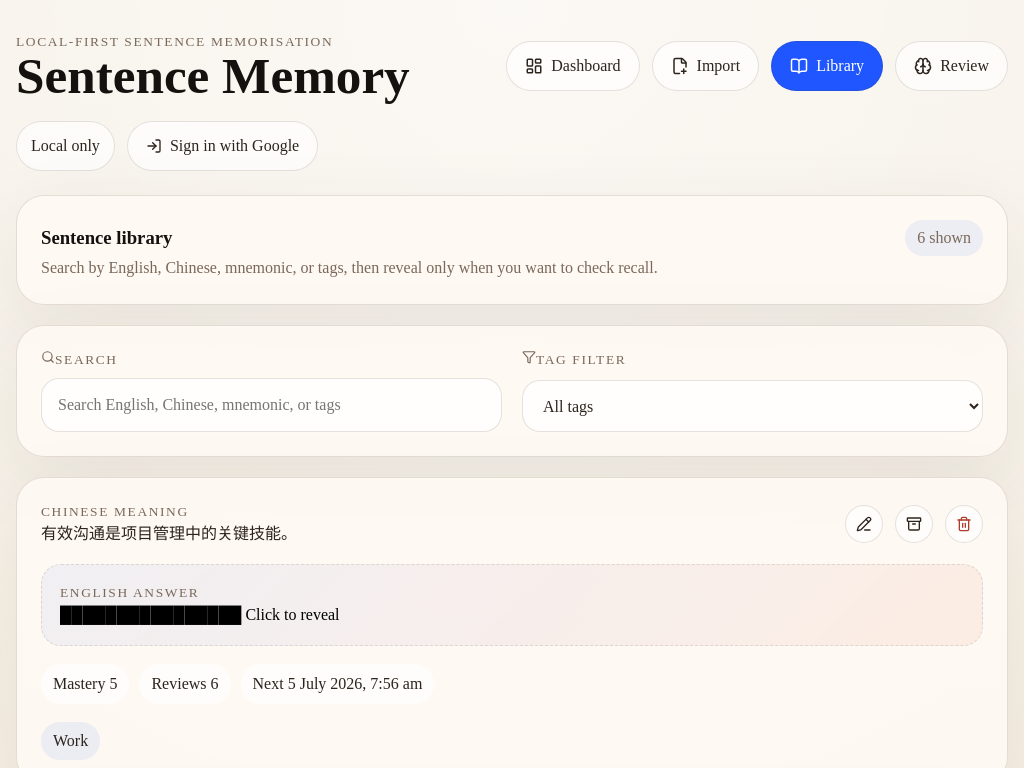
App acceptance flow › supports library search and tag filtering on active sentences only
This screenshot has width=1024, height=768.
Expected: the heading "Sentence library" is shown, [41,224,172,252]
Type "climate" into the field with placeholder "Search English, Chinese, mnemonic, or tags".
click(272, 405); type("climate")  # box [41,378,502,432]
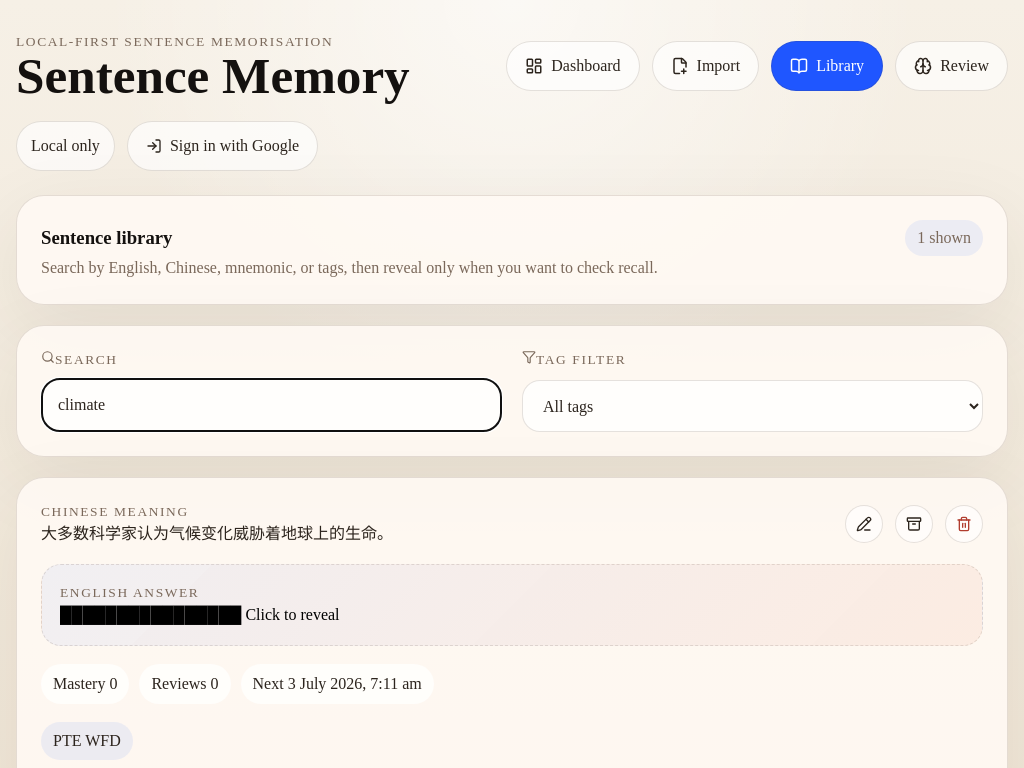
Expected: the text "大多数科学家认为气候变化威胁着地球上的生命。" is shown, [41,522,393,546]
Expected: the text "1 shown" is shown, [905,220,983,256]
Replace the text in the field labelled "Search" with "缓存" at (272, 405), box [41,378,502,432]
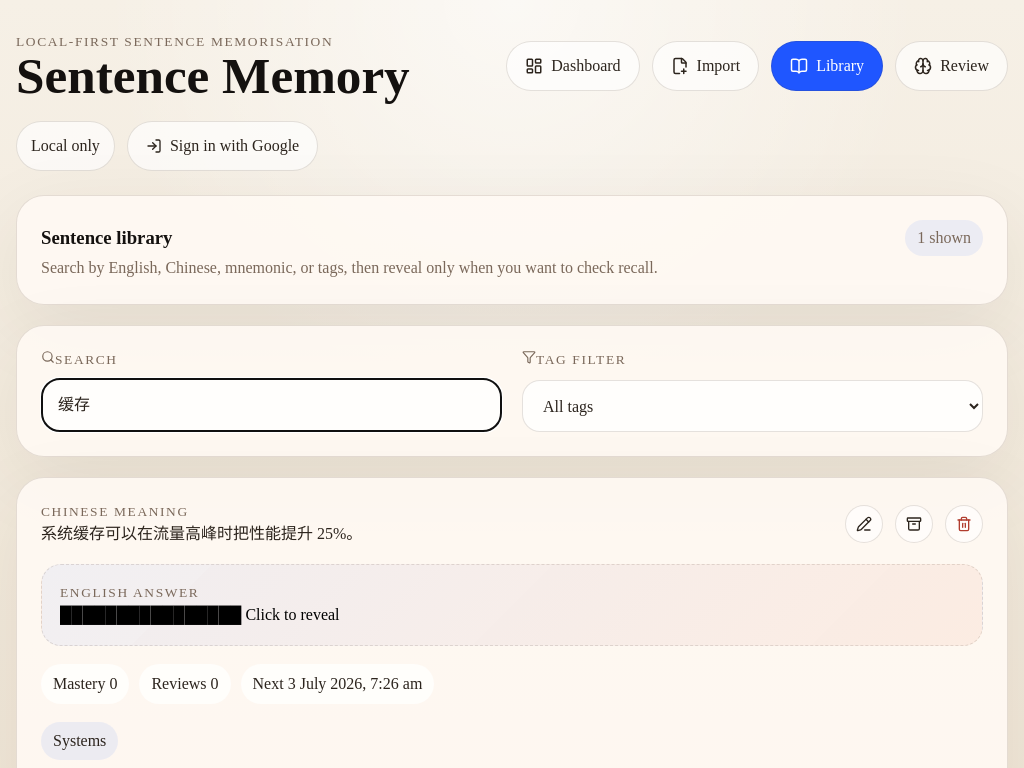
Expected: the text "系统缓存可以在流量高峰时把性能提升 25%。" is shown, [41,522,362,546]
Click the button "English answer ████████████████ Click to reveal".
click(130, 593)  # box [41,564,983,646]
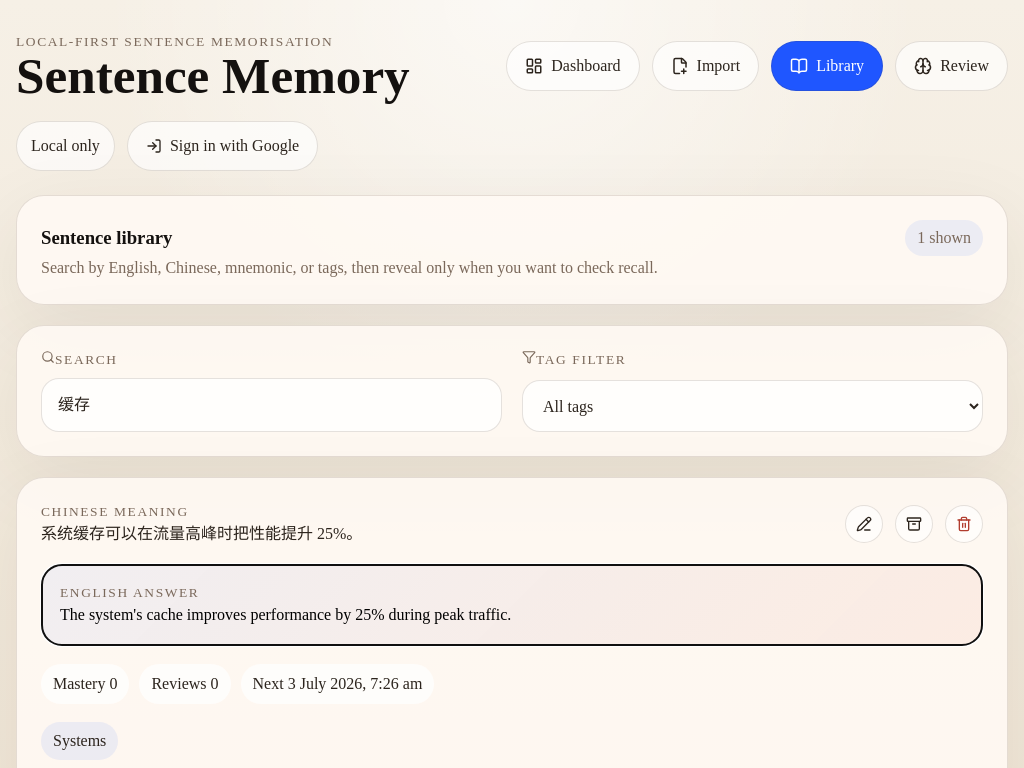
Expected: the text "The system's cache improves performance by 25% during peak traffic." is shown, [60,606,511,623]
Clear the field labelled "Search" at (272, 405), box [41,378,502,432]
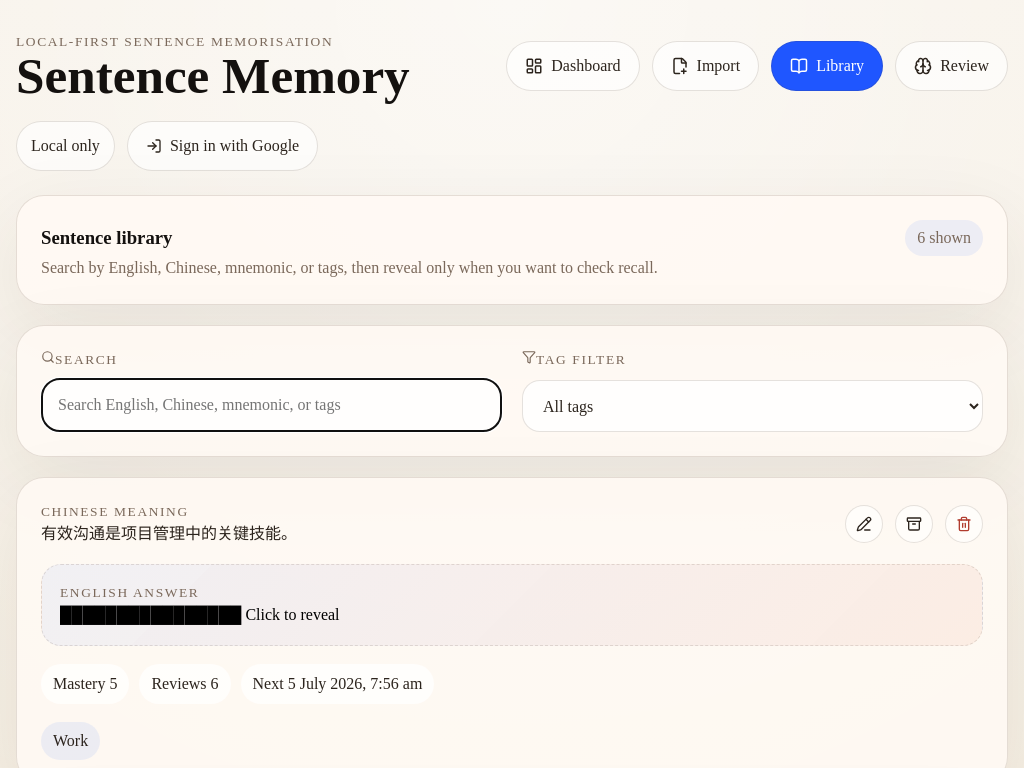
Select "PTE WFD" in the dropdown at (752, 406), box [522,380,983,432]
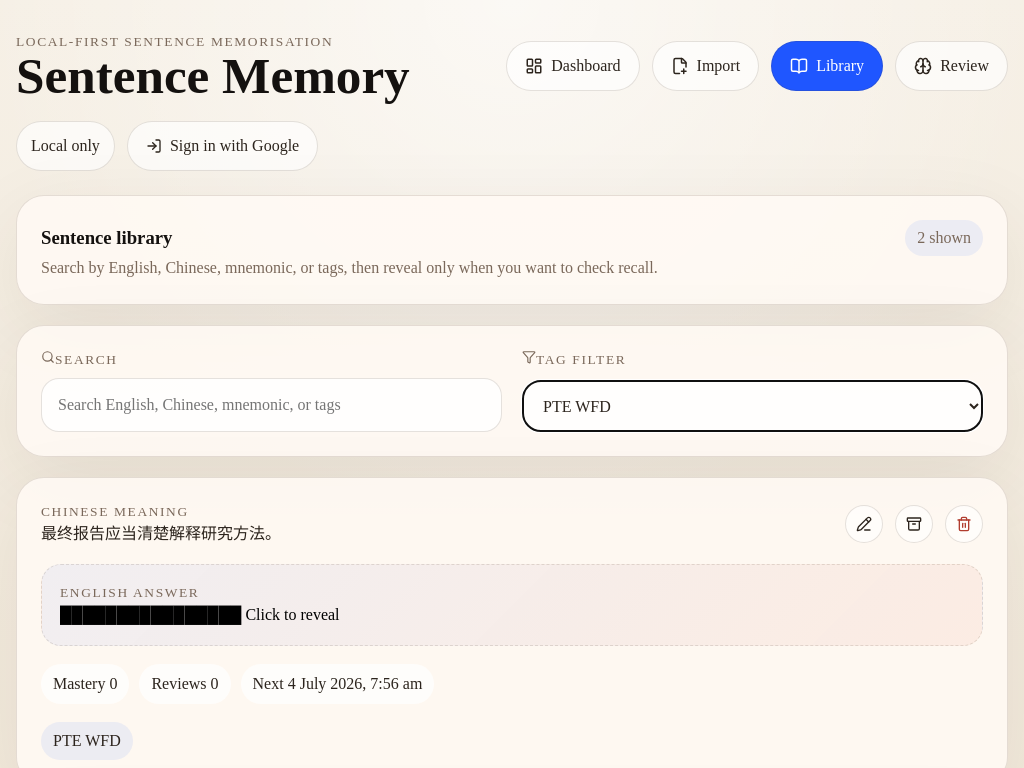
Expected: the text "2 shown" is shown, [905,220,983,256]
